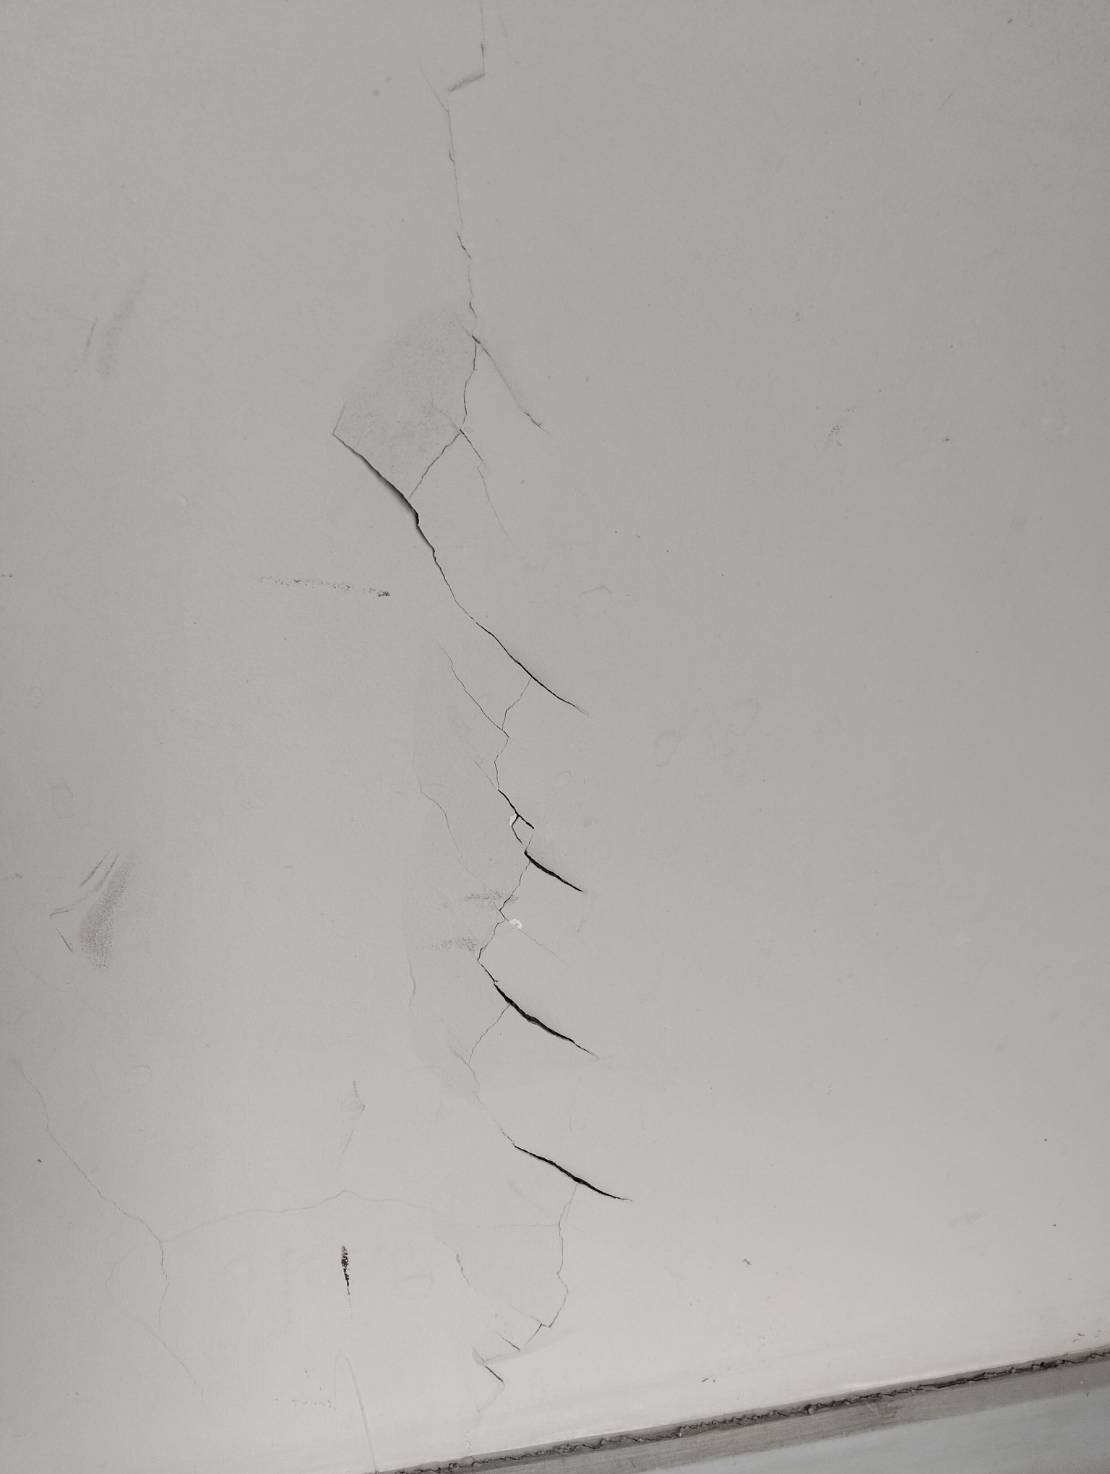Low: (310, 12, 641, 1474)
